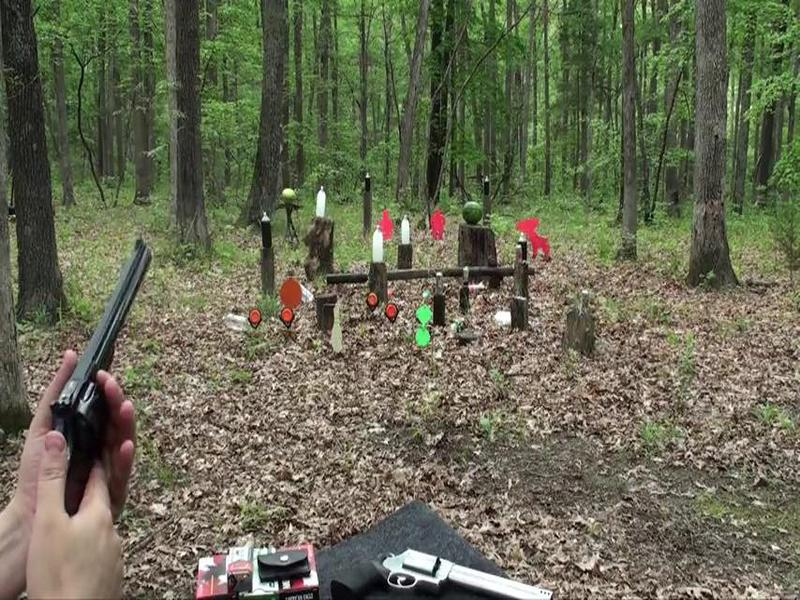Revolver: (40, 234, 173, 523)
